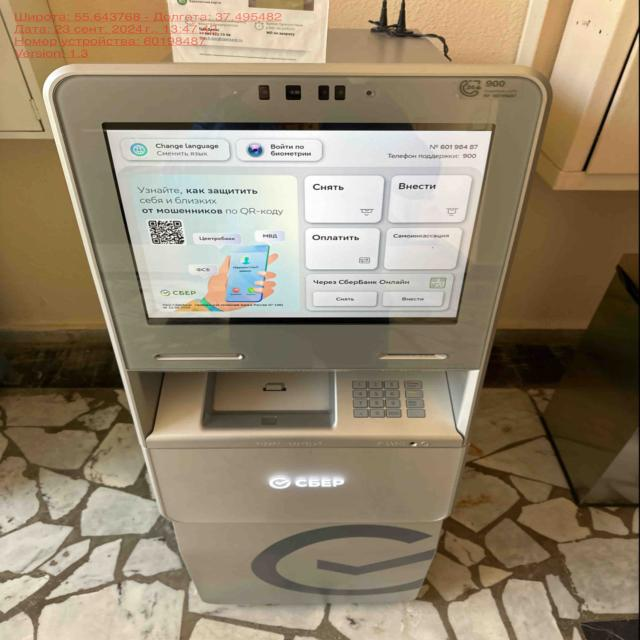bank: (41, 21, 554, 610)
